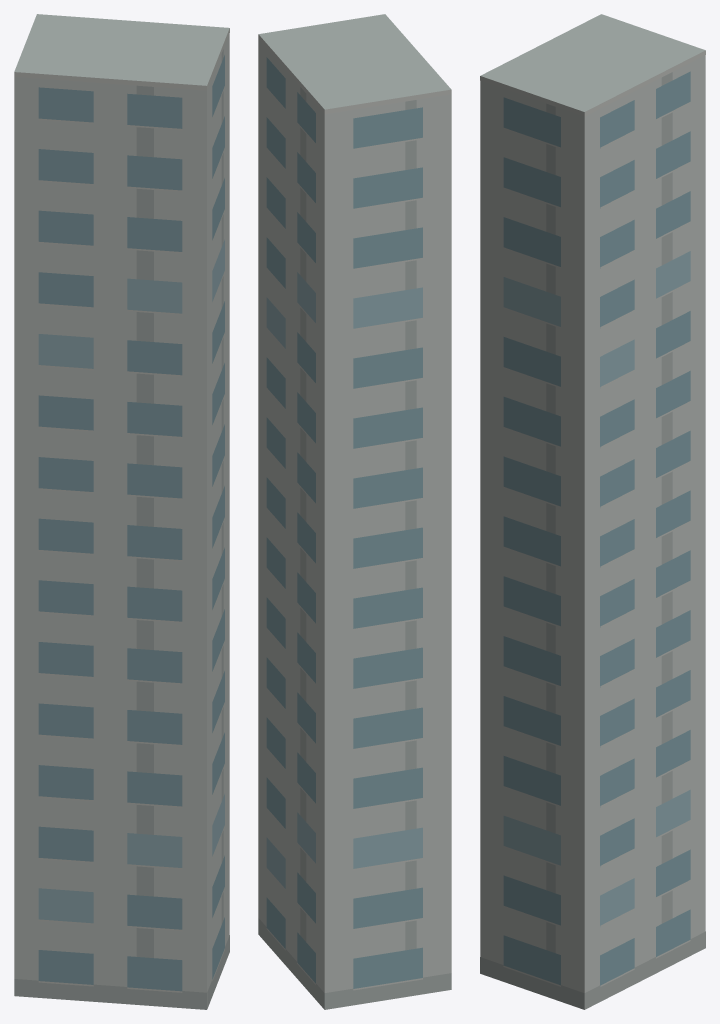
The model's file is survey-upis-32803301.glb.
The picture shows the model from 3 angles, left to right: view 1: azimuth 30°, elevation 25°; view 2: azimuth 150°, elevation 25°; view 3: azimuth 270°, elevation 25°; orthographic projection. The views are drawn at different scales.
Parts seen in each view (by area): view 1: survey-upis-32803301.tmp; view 2: survey-upis-32803301.tmp; view 3: survey-upis-32803301.tmp.
Boxes of the visible parts, x1=… form: survey-upis-32803301.tmp: x1=14, y1=14, x2=229, y2=1009; survey-upis-32803301.tmp: x1=258, y1=14, x2=451, y2=1009; survey-upis-32803301.tmp: x1=480, y1=14, x2=705, y2=1009.
Size of the model in its own units: 10.73 by 45.75 by 10.43.
